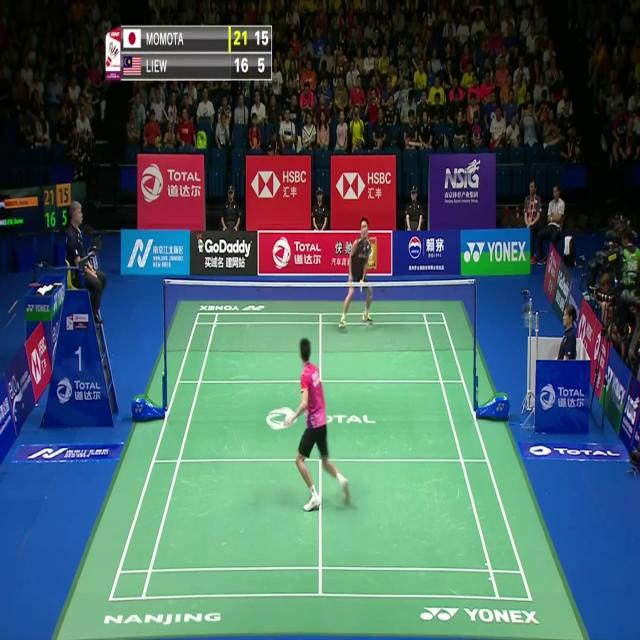Shuttlecock: (272, 243, 278, 255)
